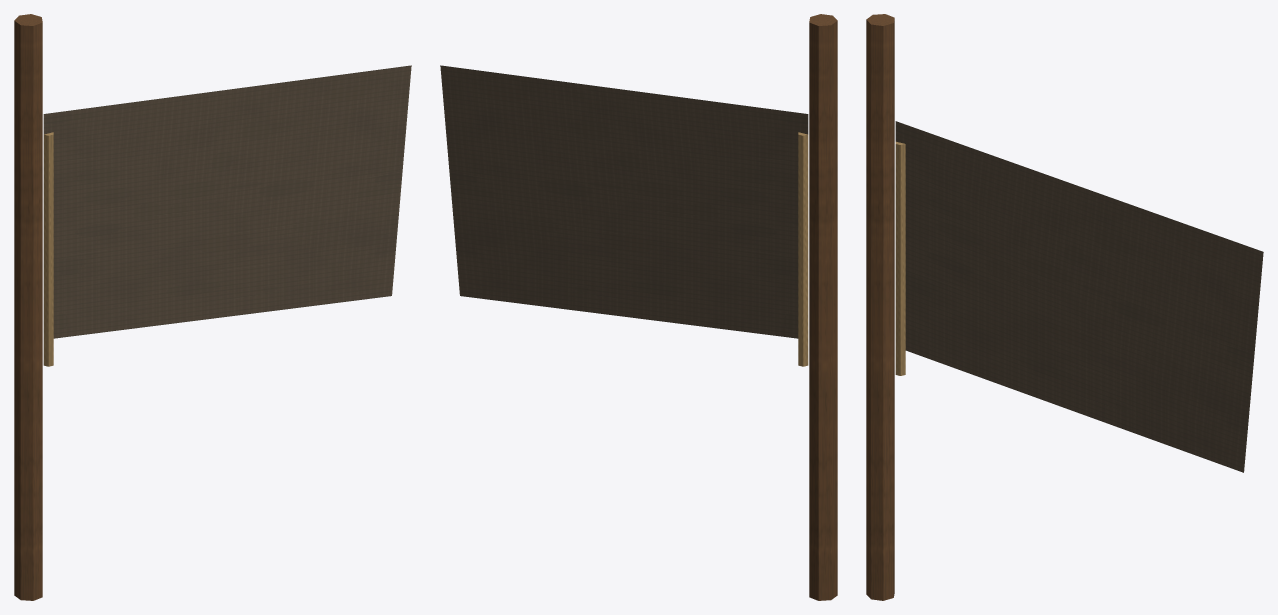
The model's file is pr-014_signal_flag_cloth_strip__clean.obj.
3 renders of one model, left to right at view 1: azimuth 30°, elevation 25°; view 2: azimuth 150°, elevation 25°; view 3: azimuth 330°, elevation 25°, orthographic.
Parts seen in each view (by area): view 1: pr-014_signal_flag_cloth_strip__clean; view 2: pr-014_signal_flag_cloth_strip__clean; view 3: pr-014_signal_flag_cloth_strip__clean.
Part boxes in pixels (box(x1,y1,x2,y2)): pr-014_signal_flag_cloth_strip__clean: box(14, 14, 411, 600); pr-014_signal_flag_cloth_strip__clean: box(440, 14, 837, 600); pr-014_signal_flag_cloth_strip__clean: box(866, 14, 1263, 600).
Bounding box in the file's own units: 0.8034 × 1.12 × 0.0507.
Materials: 3 (3 with a texture image).
